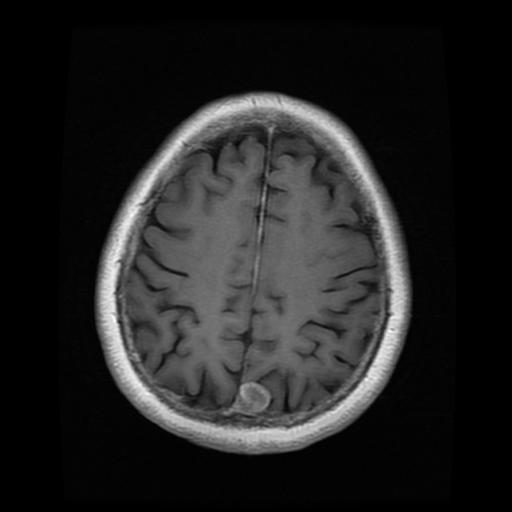Menigiomia_tumour: (237, 380, 269, 411)
